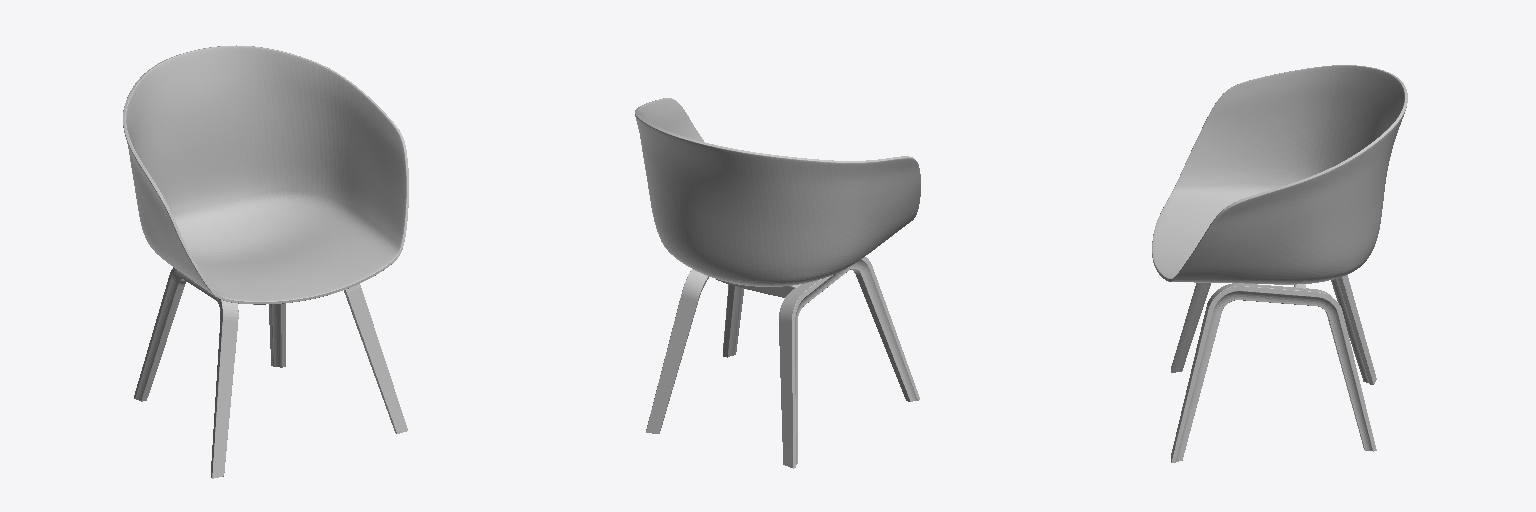
File: desk.obj
3 views of the same model, side by side, from view 1: azimuth 30°, elevation 25°; view 2: azimuth 150°, elevation 25°; view 3: azimuth 270°, elevation 25° (orthographic).
Parts seen in each view (by area): view 1: chair-by-hay_Dimensiva_black_plastic_wood_3Dshaker; view 2: chair-by-hay_Dimensiva_black_plastic_wood_3Dshaker; view 3: chair-by-hay_Dimensiva_black_plastic_wood_3Dshaker.
Part boxes in pixels (x1,y1,x2,y2): chair-by-hay_Dimensiva_black_plastic_wood_3Dshaker: (123, 45, 408, 478); chair-by-hay_Dimensiva_black_plastic_wood_3Dshaker: (635, 98, 920, 468); chair-by-hay_Dimensiva_black_plastic_wood_3Dshaker: (1152, 65, 1407, 462).
Size of the model in its own units: 0.572 by 0.7137 by 0.5197.